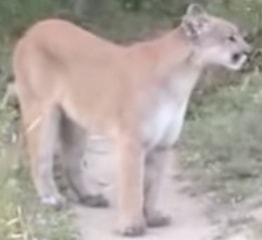Mountain Lion: (16, 8, 255, 232)
